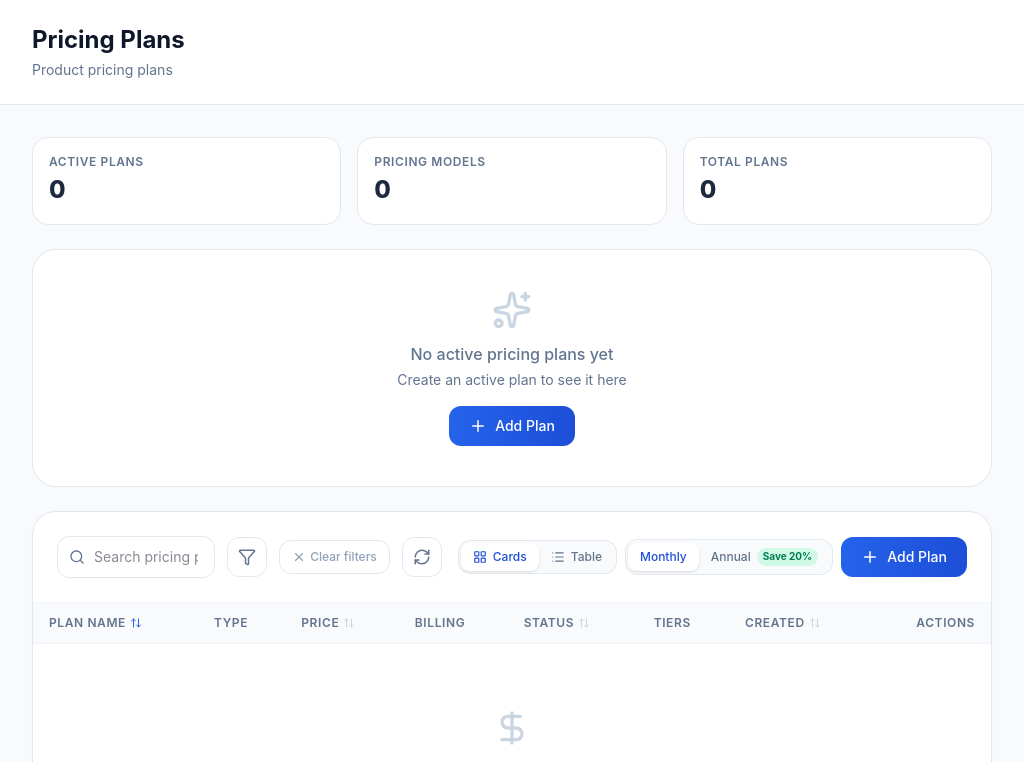
B2 Pricing Plans › search alone also enables Clear
Type "gold" into the field labelled "Search pricing plans".
click(136, 557); type("gold")  # box [57, 536, 215, 578]
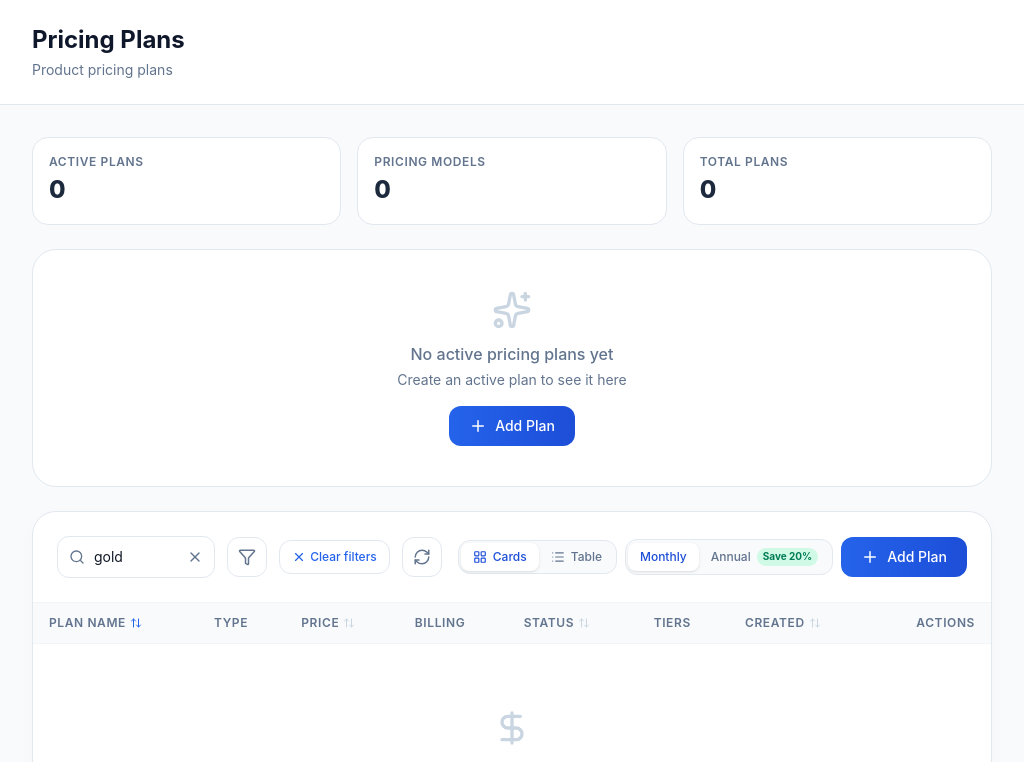
Expected: the button "Clear filters" is enabled
Click the button "Clear filters".
click(334, 557)  # box [279, 540, 390, 574]
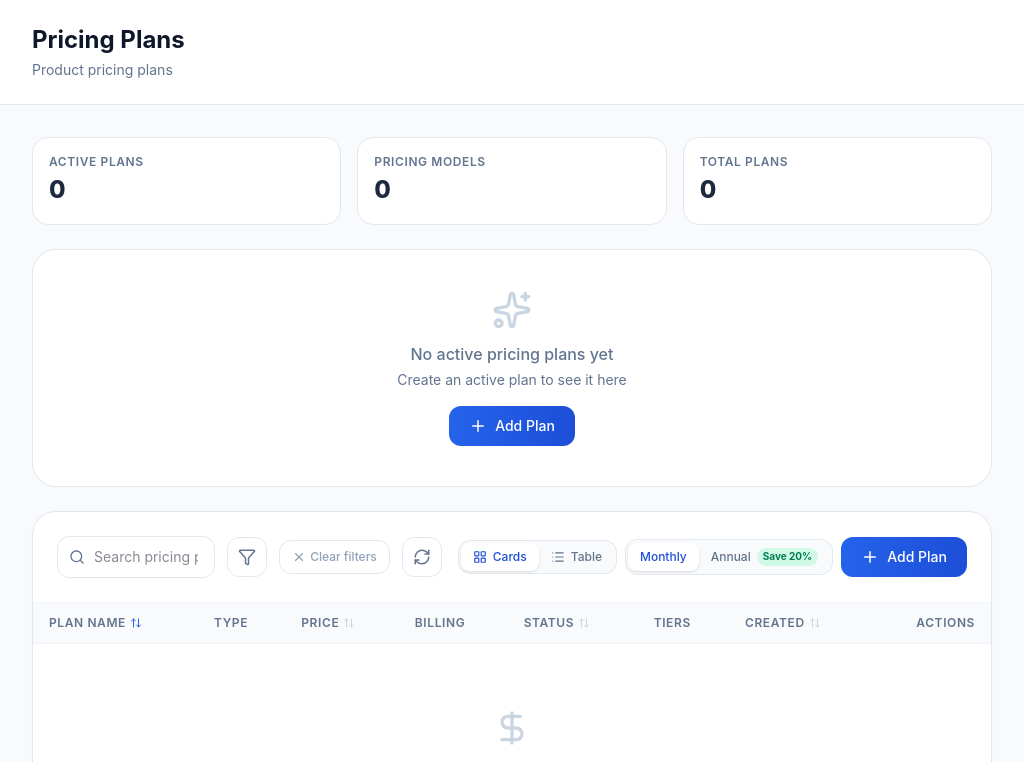
Expected: the field labelled "Search pricing plans" is empty, [57, 536, 215, 578]
